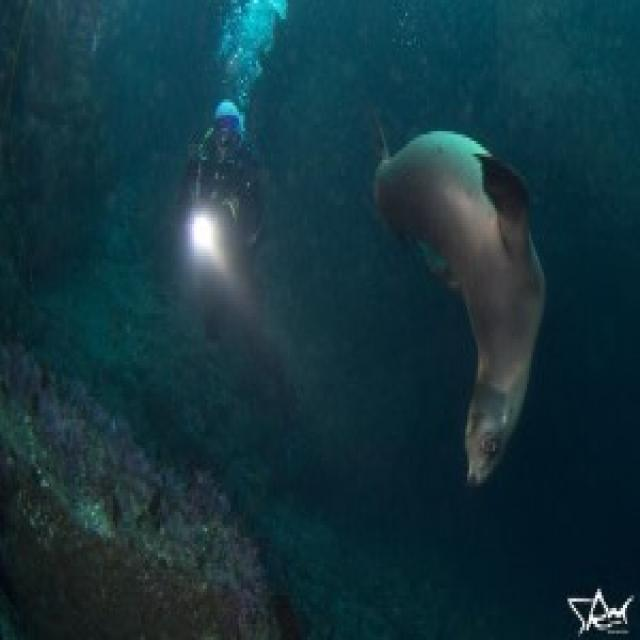Seal: (355, 87, 558, 506)
